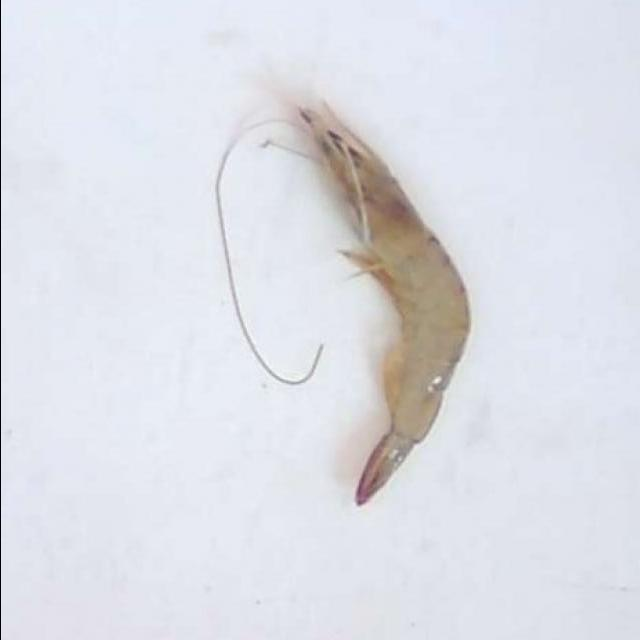shrimp: (301, 104, 469, 506)
